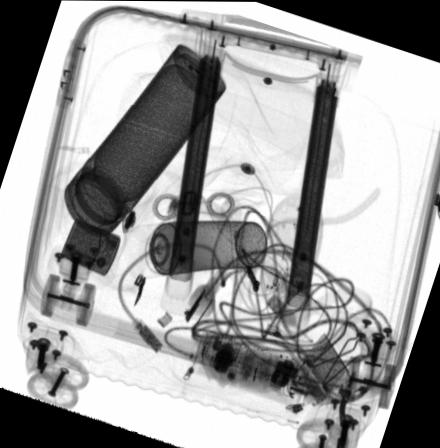Lighter: (59, 218, 121, 276)
Sprayer: (122, 222, 268, 281)
